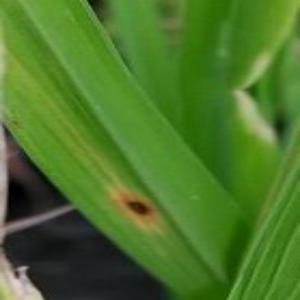0 BrownSpot: (114, 192, 160, 221)
